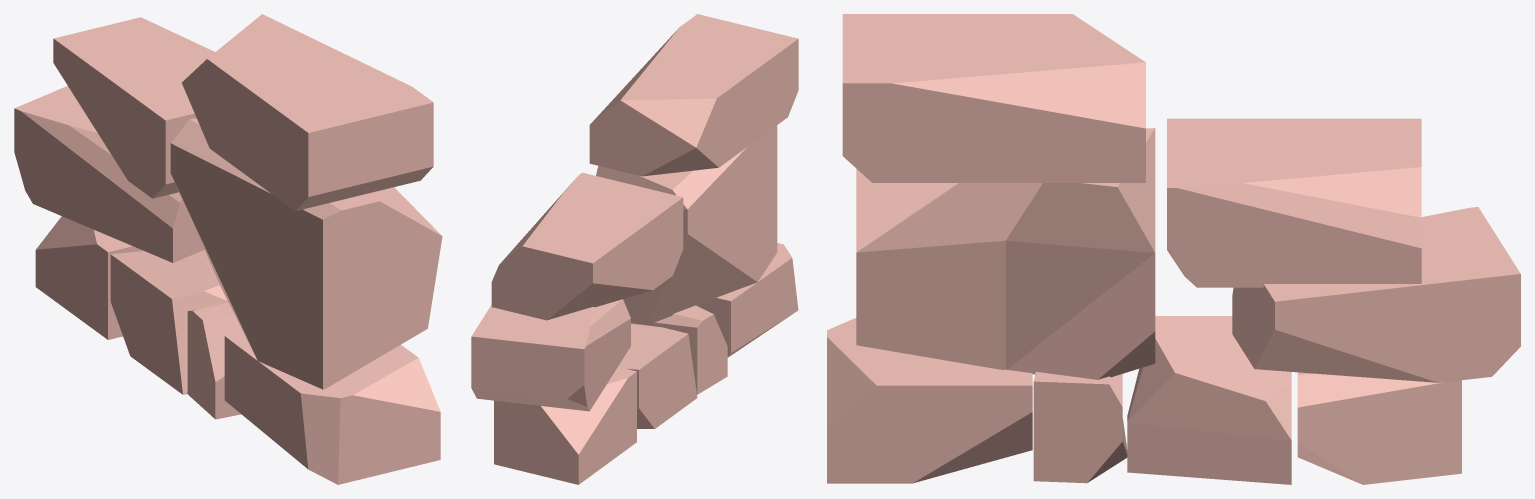
The model's file is Mega_Asset_s_Pack_Cube_228.FBX.
3 views of the same model, side by side, from view 1: azimuth 30°, elevation 25°; view 2: azimuth 150°, elevation 25°; view 3: azimuth 270°, elevation 25° (orthographic). The views are drawn at different scales.
Parts seen in each view (by area): view 1: Mega_Asset_s_Pack_Cube_228; view 2: Mega_Asset_s_Pack_Cube_228; view 3: Mega_Asset_s_Pack_Cube_228.
Part boxes in pixels (box(x1,y1,x2,y2)): Mega_Asset_s_Pack_Cube_228: box(14, 14, 442, 484); Mega_Asset_s_Pack_Cube_228: box(471, 14, 798, 484); Mega_Asset_s_Pack_Cube_228: box(827, 14, 1520, 484).
Size of what is drawn, in the model's own units: 87.46 by 270 by 172.
